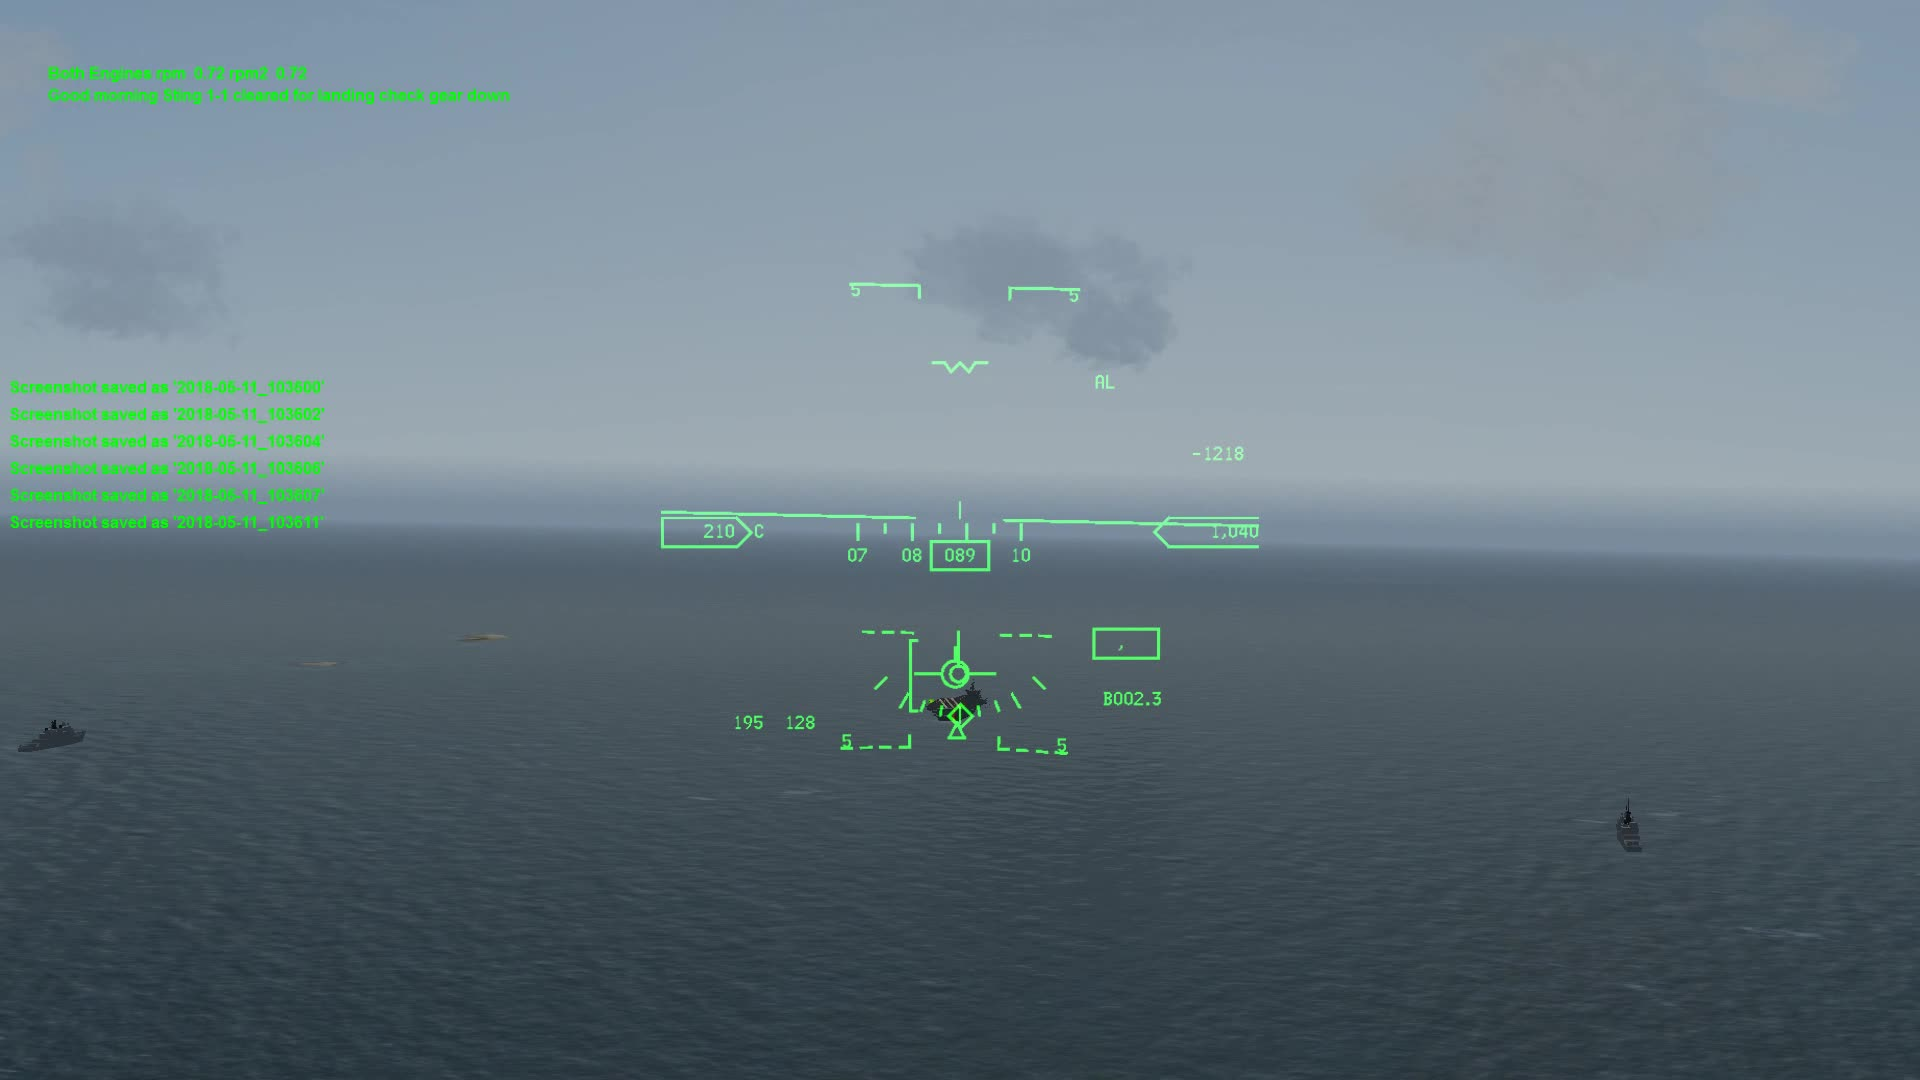speed vector: (928, 624, 997, 687)
